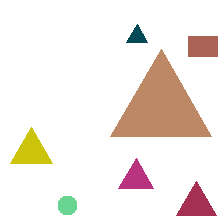circle: (58, 196, 76, 214)
rectangle: (188, 36, 217, 56)
triangle: (110, 49, 211, 136), (10, 127, 52, 163), (176, 181, 216, 215), (118, 158, 153, 188), (126, 24, 147, 42)
